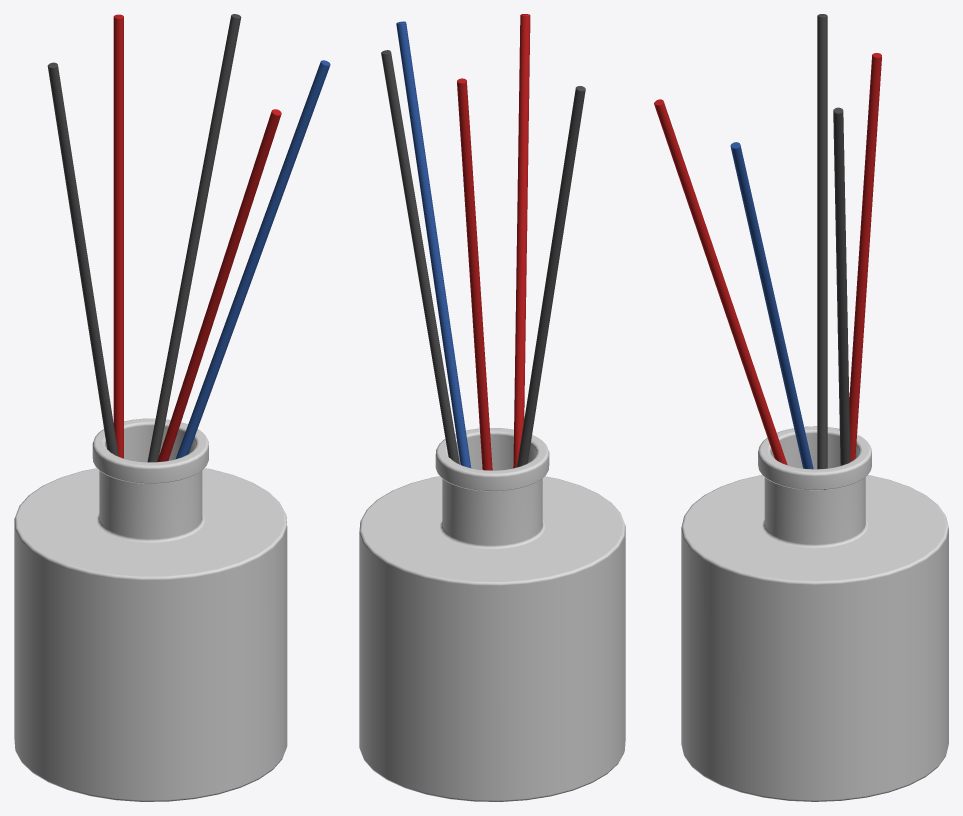
File: Decor_01.fbx
3 renders of one model, left to right at view 1: azimuth 30°, elevation 25°; view 2: azimuth 150°, elevation 25°; view 3: azimuth 270°, elevation 25°, orthographic. The views are drawn at different scales.
Visible parts, largest first — view 1: Decor_01; view 2: Decor_01; view 3: Decor_01.
Boxes of the visible parts, x1,y1,x2,y2 form: Decor_01: [14, 14, 330, 801]; Decor_01: [359, 14, 625, 801]; Decor_01: [654, 14, 948, 801].
Size of the model in its own units: 9.85 by 25.89 by 10.01.
